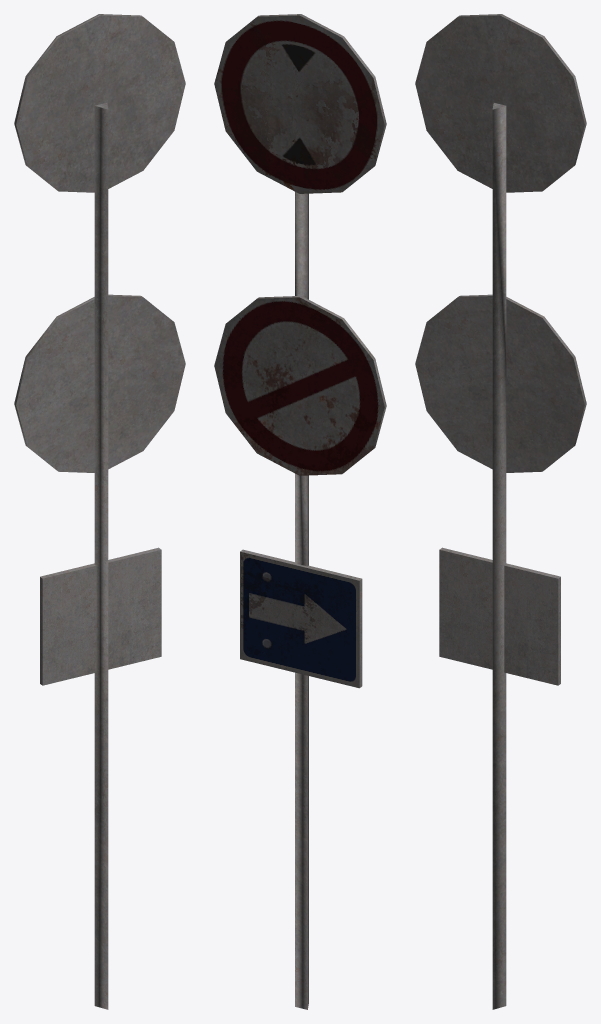
Rendered from Prop_Jingshipai.glb.
3 views of the same model, side by side, from view 1: azimuth 30°, elevation 25°; view 2: azimuth 150°, elevation 25°; view 3: azimuth 330°, elevation 25° (orthographic).
Visible parts, largest first — view 1: xiutz_jingshipai; view 2: xiutz_jingshipai; view 3: xiutz_jingshipai.
Boxes of the visible parts, left/top/right/bottom form: xiutz_jingshipai: left=14, top=14, right=185, bottom=1009; xiutz_jingshipai: left=214, top=14, right=386, bottom=1009; xiutz_jingshipai: left=415, top=14, right=586, bottom=1009.
Size of the model in its own units: 0.7893 by 4.39 by 0.0758.
Materials: 1 (1 with a texture image).
